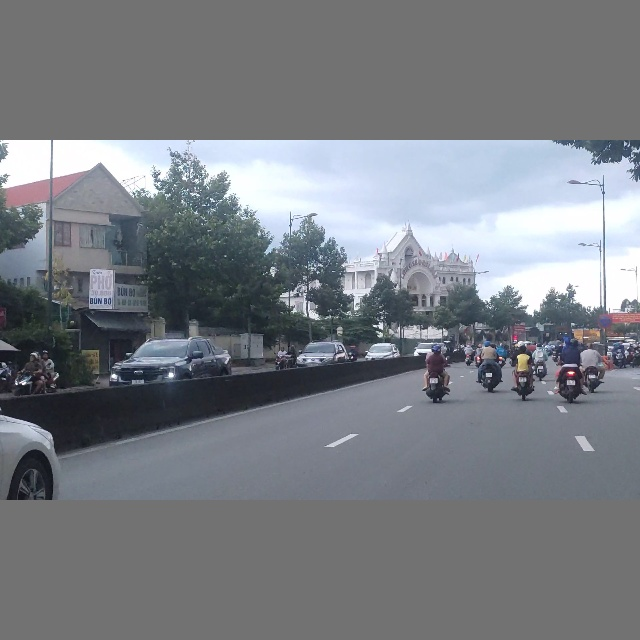P.130: (598, 314, 612, 328)
